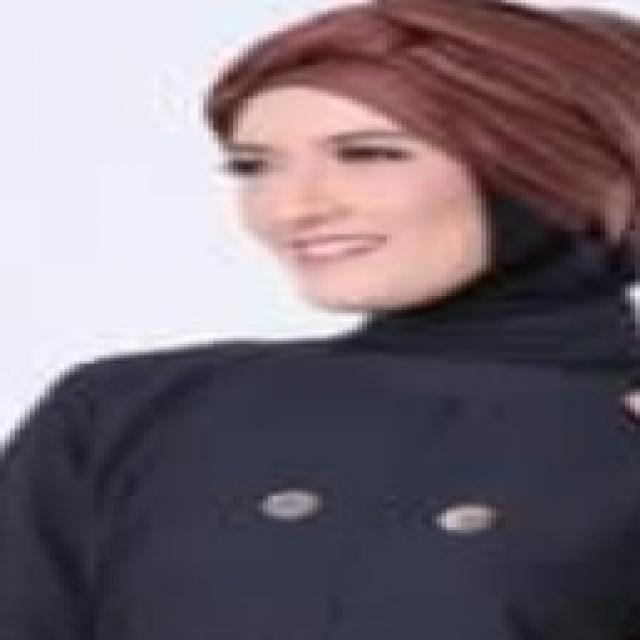head: (188, 32, 545, 327)
